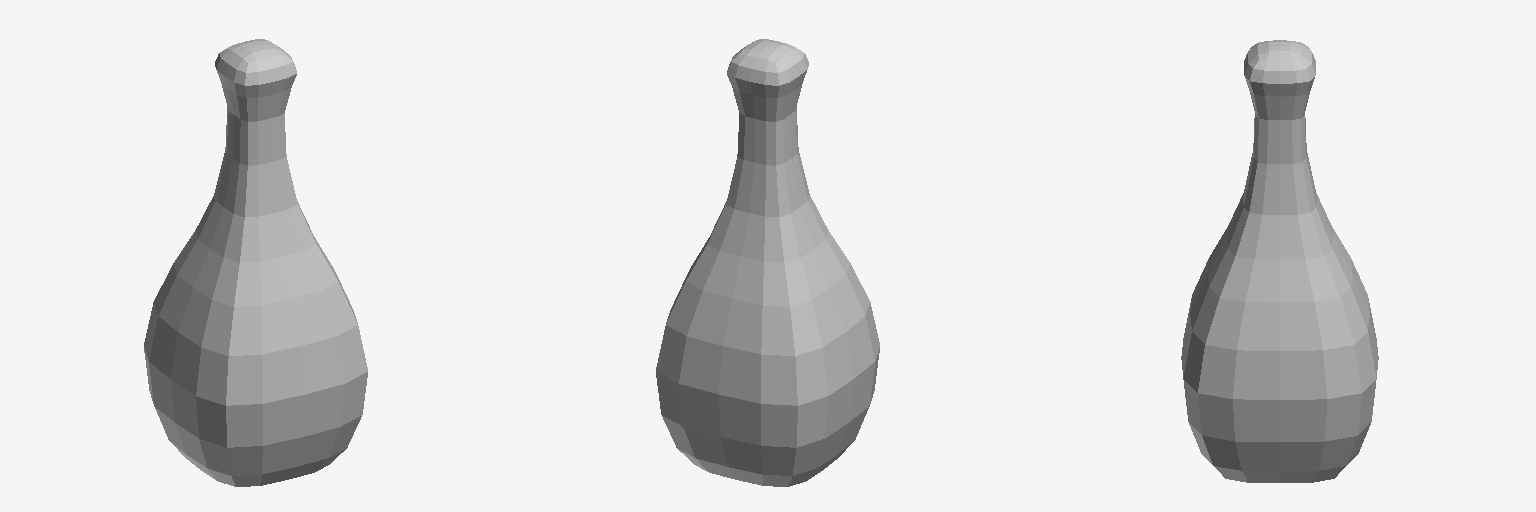
Rendered from bottle.obj.
3 renders of one model, left to right at view 1: azimuth 30°, elevation 25°; view 2: azimuth 150°, elevation 25°; view 3: azimuth 270°, elevation 25°, orthographic.
Visible parts, largest first — view 1: Bottle; view 2: Bottle; view 3: Bottle.
Boxes of the visible parts, x1,y1,x2,y2 form: Bottle: [144, 39, 367, 486]; Bottle: [656, 39, 879, 486]; Bottle: [1181, 40, 1378, 482].
Bounding box in the file's own units: 2.05 × 4.81 × 2.05.